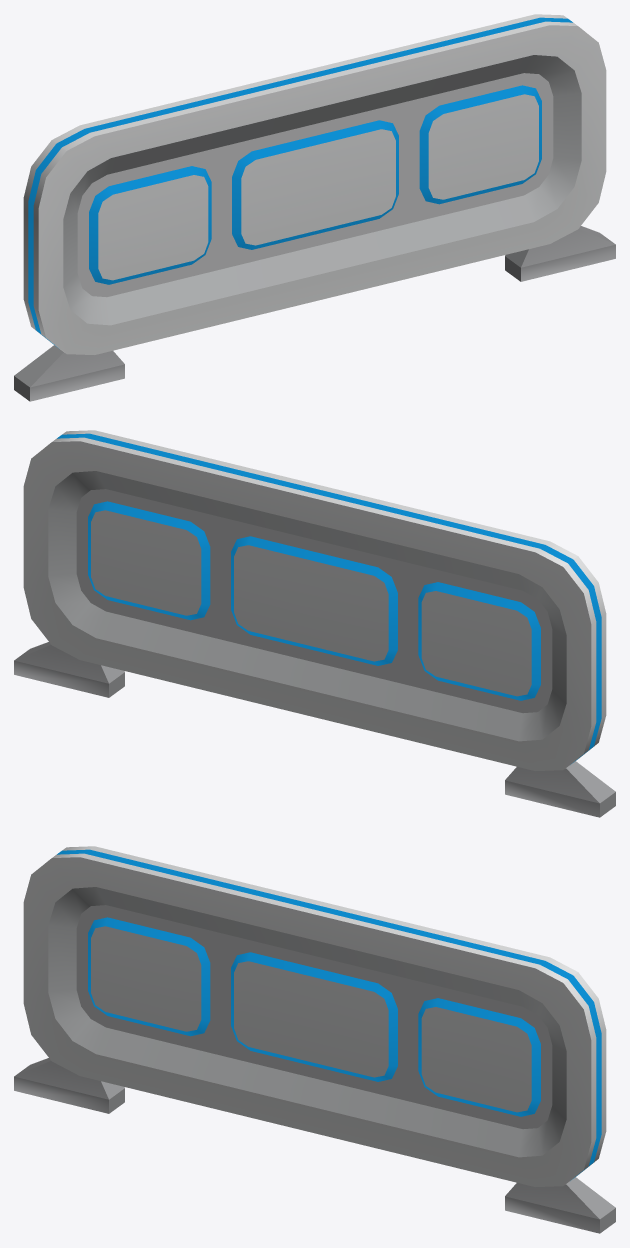
The model's file is Fence_type_B_009.glb.
3 renders of one model, top to bottom at view 1: azimuth 30°, elevation 25°; view 2: azimuth 150°, elevation 25°; view 3: azimuth 330°, elevation 25°, orthographic.
Parts seen in each view (by area): view 1: Fence_type_B_009; view 2: Fence_type_B_009; view 3: Fence_type_B_009.
Boxes of the visible parts, x1,y1,x2,y2 form: Fence_type_B_009: (14, 14, 615, 401); Fence_type_B_009: (14, 430, 615, 817); Fence_type_B_009: (14, 846, 615, 1233).
Size of the model in its own units: 3.48 by 1.41 by 0.1653.
2 materials, 2 textured.
